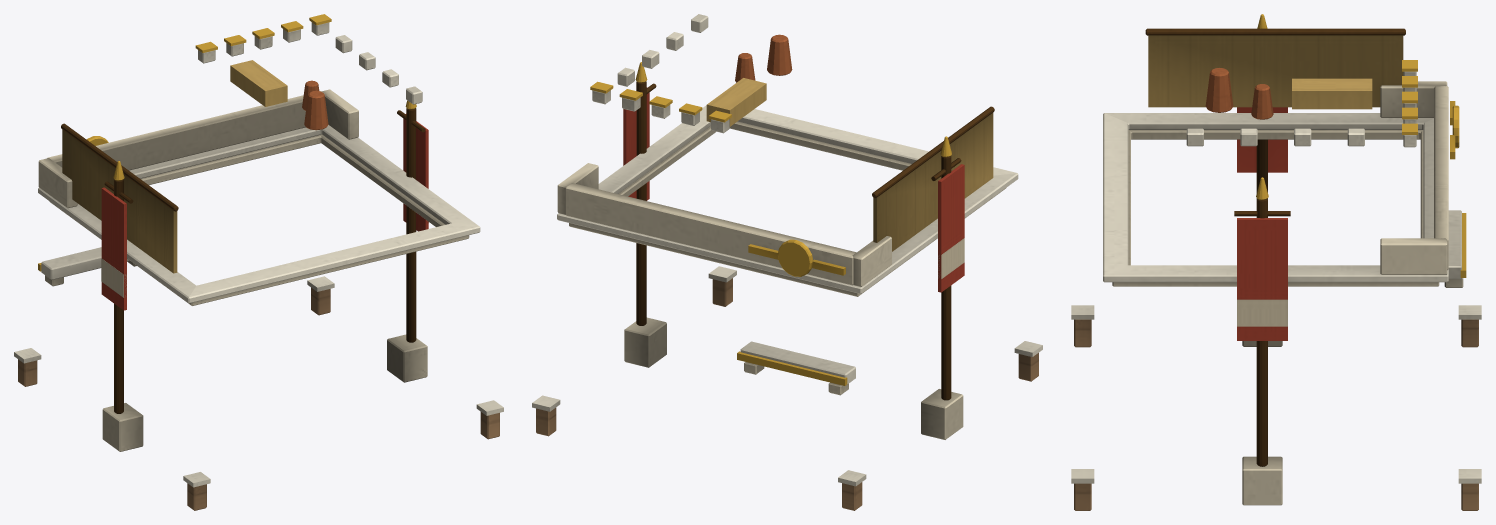
Rendered from great_house_dress.glb.
3 renders of one model, left to right at view 1: azimuth 30°, elevation 25°; view 2: azimuth 150°, elevation 25°; view 3: azimuth 270°, elevation 25°, orthographic. The views are drawn at different scales.
Visible parts, largest first — view 1: great_house_dress_stone_white_b2, great_house_dress_stone_pale_b2, great_house_dress_thatch_mat_b1, great_house_dress_cloth_red_b3, great_house_dress_wood_dark_b3, great_house_dress_stone_pale_b3, great_house_dress_stone_white_b3, great_house_dress_mud_terra_b1, great_house_dress_gold_leaf_b4, great_house_dress_stone_white_b1, great_house_dress_pottery_b1, great_house_dress_wood_dark_b1 (+1 smaller); view 2: great_house_dress_stone_pale_b2, great_house_dress_stone_white_b2, great_house_dress_thatch_mat_b1, great_house_dress_gold_leaf_b4, great_house_dress_cloth_red_b3, great_house_dress_stone_pale_b3, great_house_dress_wood_dark_b3, great_house_dress_stone_white_b3, great_house_dress_mud_terra_b1, great_house_dress_pottery_b1, great_house_dress_stone_white_b1, great_house_dress_wood_dark_b1 (+1 smaller); view 3: great_house_dress_thatch_mat_b1, great_house_dress_stone_white_b2, great_house_dress_stone_pale_b2, great_house_dress_cloth_red_b3, great_house_dress_wood_dark_b3, great_house_dress_gold_leaf_b4, great_house_dress_stone_pale_b3, great_house_dress_wood_dark_b1, great_house_dress_mud_terra_b1, great_house_dress_stone_white_b3, great_house_dress_pottery_b1, great_house_dress_stone_white_b1 (+1 smaller).
Part boxes in pixels (x1=…): great_house_dress_stone_white_b2: x1=38, y1=125, x2=480, y2=303; great_house_dress_stone_pale_b2: x1=38, y1=89, x2=469, y2=305; great_house_dress_thatch_mat_b1: x1=62, y1=60, x2=287, y2=273; great_house_dress_cloth_red_b3: x1=101, y1=114, x2=428, y2=310; great_house_dress_wood_dark_b3: x1=104, y1=108, x2=425, y2=413; great_house_dress_stone_pale_b3: x1=102, y1=334, x2=427, y2=451; great_house_dress_stone_white_b3: x1=198, y1=22, x2=422, y2=104; great_house_dress_mud_terra_b1: x1=18, y1=287, x2=499, y2=510; great_house_dress_gold_leaf_b4: x1=38, y1=14, x2=416, y2=271; great_house_dress_stone_white_b1: x1=14, y1=276, x2=503, y2=487; great_house_dress_pottery_b1: x1=302, y1=80, x2=328, y2=130; great_house_dress_wood_dark_b1: x1=61, y1=123, x2=178, y2=211; great_house_dress_stone_pale_b2: x1=557, y1=121, x2=1005, y2=395; great_house_dress_stone_white_b2: x1=557, y1=105, x2=1018, y2=384; great_house_dress_thatch_mat_b1: x1=706, y1=78, x2=993, y2=251; great_house_dress_gold_leaf_b4: x1=590, y1=62, x2=951, y2=385; great_house_dress_cloth_red_b3: x1=623, y1=87, x2=964, y2=292; great_house_dress_stone_pale_b3: x1=624, y1=317, x2=963, y2=439; great_house_dress_wood_dark_b3: x1=636, y1=81, x2=961, y2=400; great_house_dress_stone_white_b3: x1=592, y1=14, x2=729, y2=133; great_house_dress_mud_terra_b1: x1=536, y1=278, x2=1038, y2=510; great_house_dress_pottery_b1: x1=735, y1=34, x2=792, y2=82; great_house_dress_stone_white_b1: x1=532, y1=266, x2=1042, y2=486; great_house_dress_wood_dark_b1: x1=872, y1=106, x2=994, y2=198; great_house_dress_thatch_mat_b1: x1=1148, y1=35, x2=1403, y2=109; great_house_dress_stone_white_b2: x1=1103, y1=113, x2=1461, y2=282; great_house_dress_stone_pale_b2: x1=1112, y1=81, x2=1463, y2=287; great_house_dress_cloth_red_b3: x1=1237, y1=107, x2=1287, y2=340; great_house_dress_wood_dark_b3: x1=1234, y1=139, x2=1290, y2=466; great_house_dress_gold_leaf_b4: x1=1256, y1=14, x2=1466, y2=277; great_house_dress_stone_pale_b3: x1=1242, y1=341, x2=1282, y2=505; great_house_dress_wood_dark_b1: x1=1145, y1=28, x2=1405, y2=35; great_house_dress_mud_terra_b1: x1=1074, y1=319, x2=1478, y2=510; great_house_dress_stone_white_b3: x1=1186, y1=71, x2=1416, y2=147; great_house_dress_pottery_b1: x1=1205, y1=68, x2=1273, y2=119; great_house_dress_stone_white_b1: x1=1071, y1=305, x2=1481, y2=483.
Size of the model in its own units: 3.06 by 3.07 by 3.06.
Materials: 13 (12 with a texture image).
